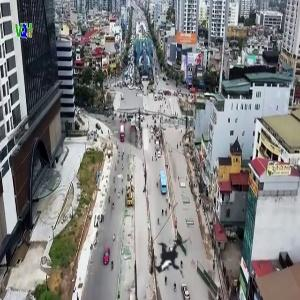drone: (124, 211, 213, 300)
